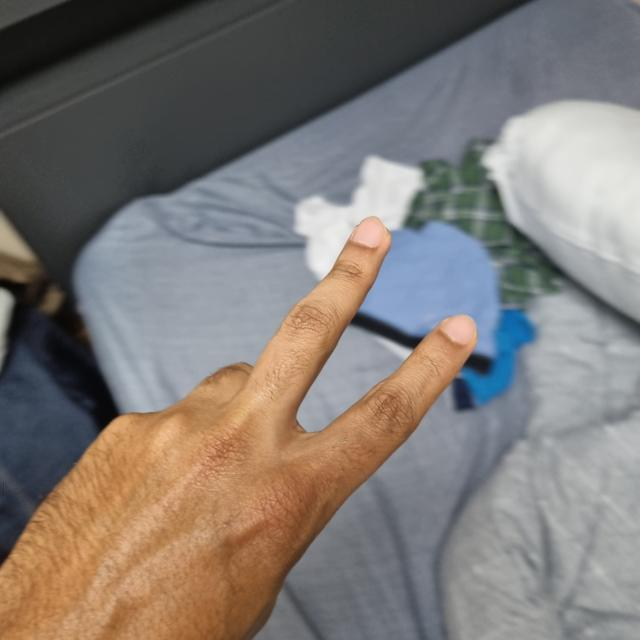Scissors: (0, 221, 478, 638)
